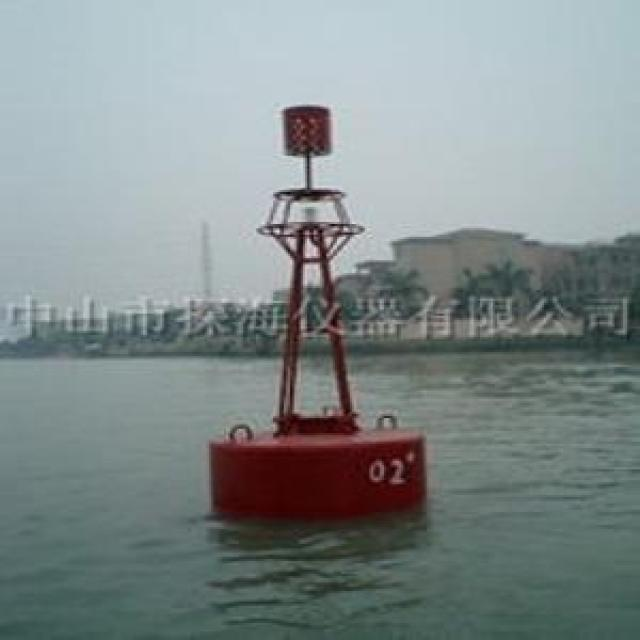buoy: (194, 96, 433, 513)
